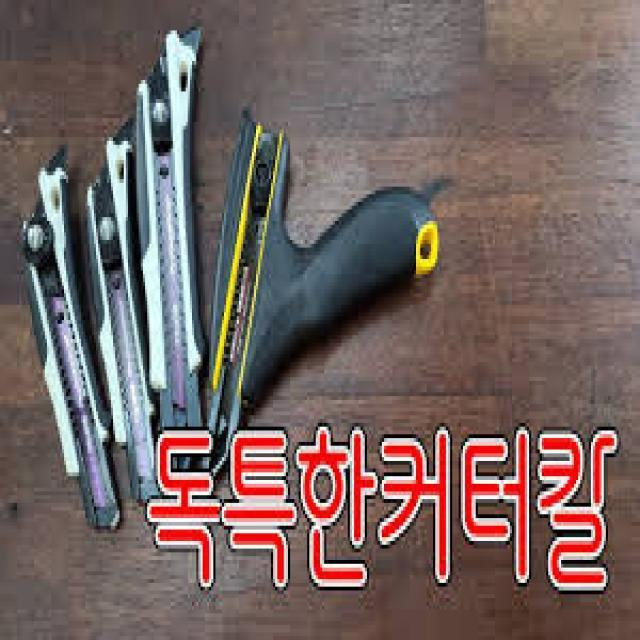cutter: (14, 134, 127, 546), (82, 120, 176, 517), (133, 22, 213, 476)
